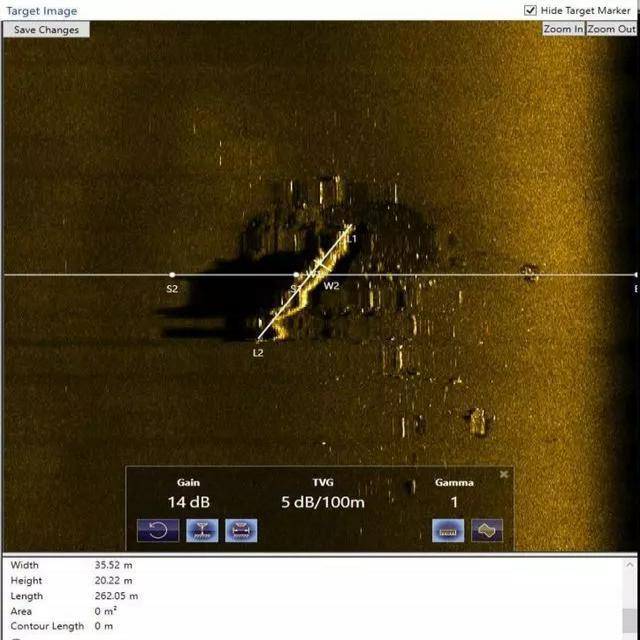shipwreck: (240, 215, 361, 352)
